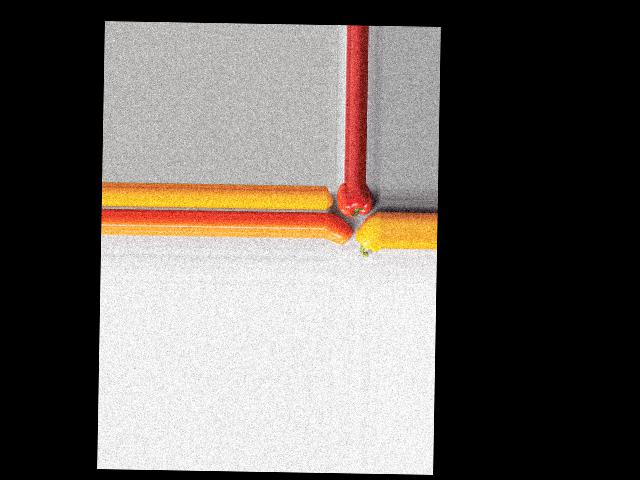bell_pepper: (336, 182, 375, 218)
